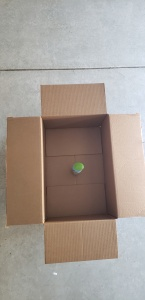innerbox: (39, 116, 117, 223)
outerbox: (5, 84, 145, 261)
product: (70, 161, 87, 176)
